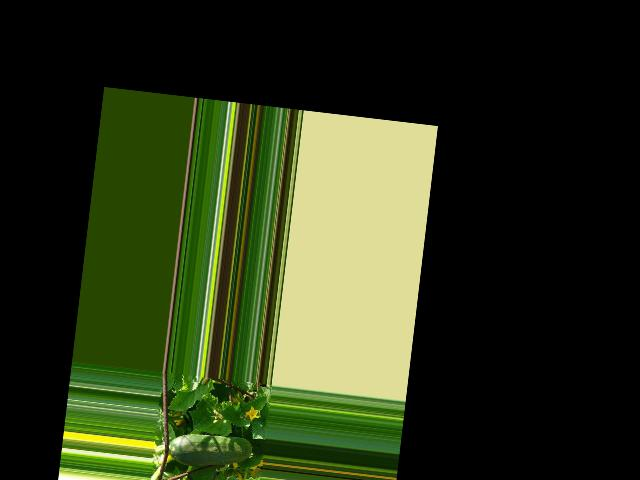cucumber: (167, 429, 253, 474)
